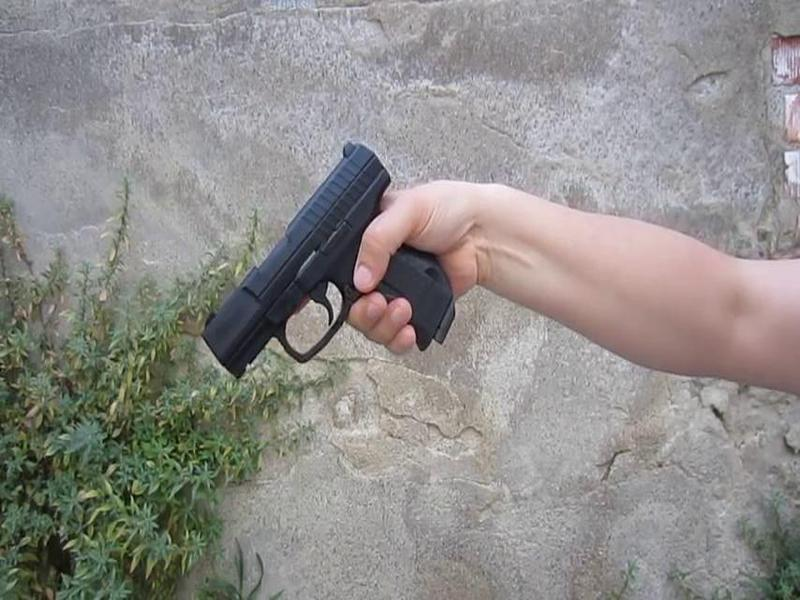Pistola: (195, 132, 472, 405)
